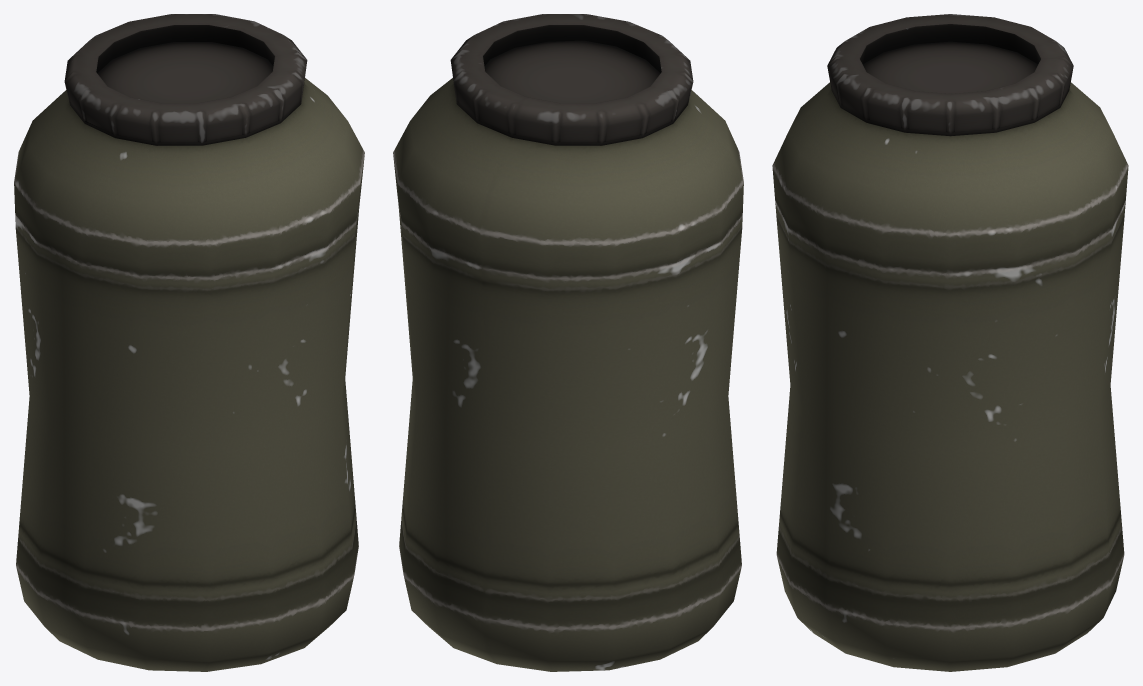
File: BarrelPlastic01.FBX
3 views of the same model, side by side, from view 1: azimuth 30°, elevation 25°; view 2: azimuth 150°, elevation 25°; view 3: azimuth 270°, elevation 25° (orthographic).
Parts seen in each view (by area): view 1: BarrelPlastic01; view 2: BarrelPlastic01; view 3: BarrelPlastic01.
Part boxes in pixels (bbox=[...]): BarrelPlastic01: bbox=[14, 14, 364, 671]; BarrelPlastic01: bbox=[393, 14, 743, 671]; BarrelPlastic01: bbox=[772, 14, 1128, 671].
Size of what is drawn, in the model's own units: 0.6777 by 1.16 by 0.6781.
